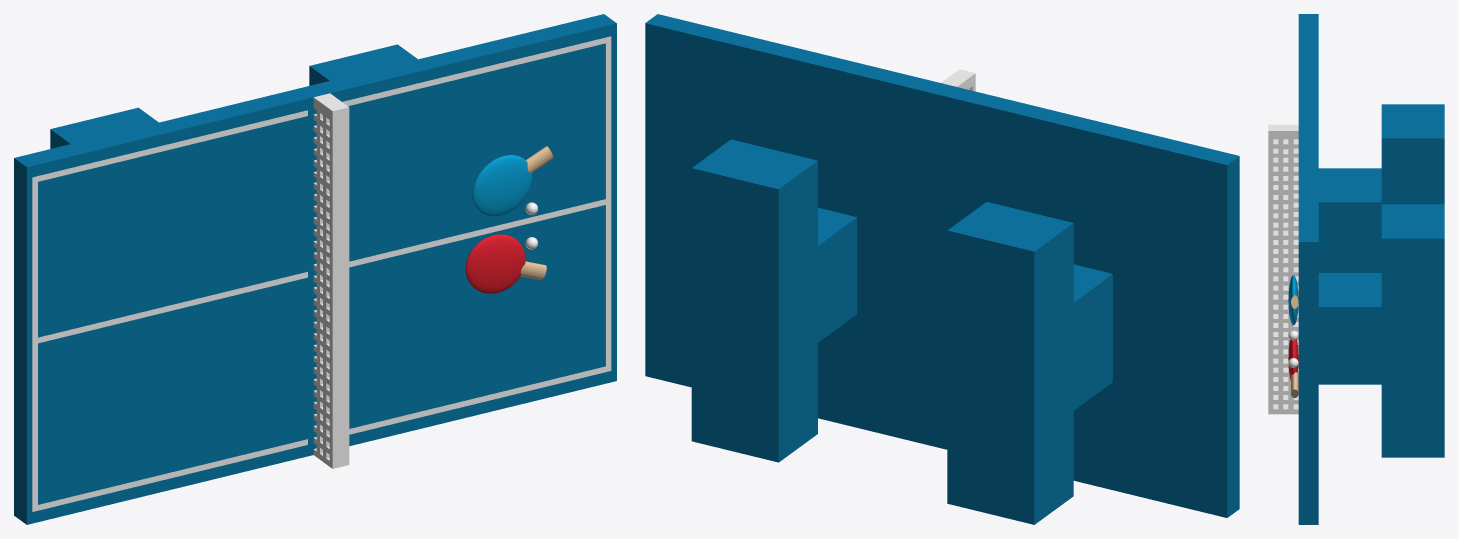
The model's file is tinker.obj.
The picture shows the model from 3 angles, left to right: view 1: azimuth 30°, elevation 25°; view 2: azimuth 150°, elevation 25°; view 3: azimuth 270°, elevation 25°; orthographic projection. The views are drawn at different scales.
Parts seen in each view (by area): view 1: group_0_30377, group_0_16448250, group_0_15277357, group_0_40919, group_0_14860437; view 2: group_0_30377; view 3: group_0_30377, group_0_16448250, group_0_40919, group_0_14860437, group_0_15277357.
Part boxes in pixels (bbox=[...]): group_0_30377: bbox=[14, 14, 616, 524]; group_0_16448250: bbox=[32, 36, 611, 511]; group_0_15277357: bbox=[465, 234, 525, 293]; group_0_40919: bbox=[472, 155, 532, 216]; group_0_14860437: bbox=[520, 146, 553, 280]; group_0_30377: bbox=[645, 14, 1239, 524]; group_0_30377: bbox=[1298, 14, 1444, 524]; group_0_16448250: bbox=[1268, 124, 1298, 414]; group_0_40919: bbox=[1288, 275, 1298, 325]; group_0_14860437: bbox=[1291, 295, 1298, 397]; group_0_15277357: bbox=[1288, 339, 1298, 380].
Size of the model in its own units: 107 by 62 by 35.
